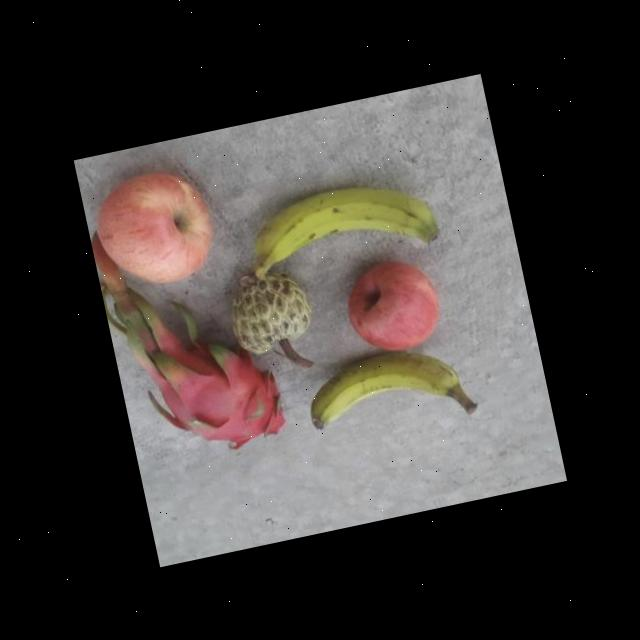Sakya fruit: (222, 262, 322, 358)
apple: (86, 160, 226, 294), (338, 248, 450, 360)
banana: (228, 168, 442, 286), (301, 336, 478, 445)
pitaya: (136, 314, 294, 470)
